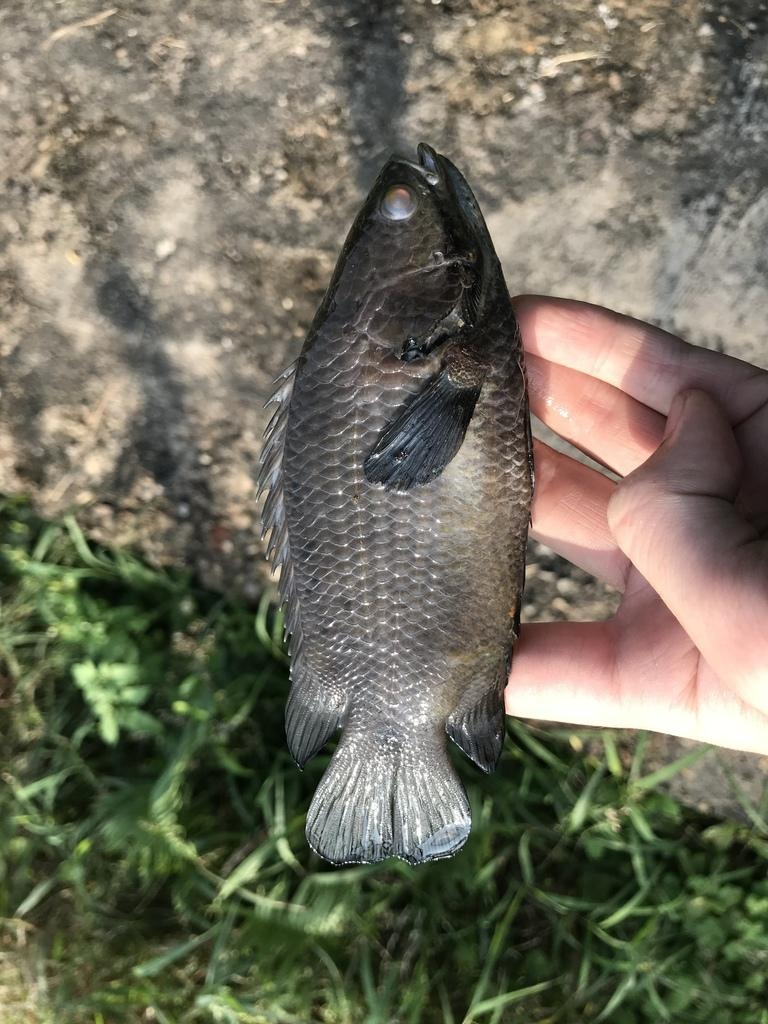Climbing Perch: (256, 142, 535, 868)
